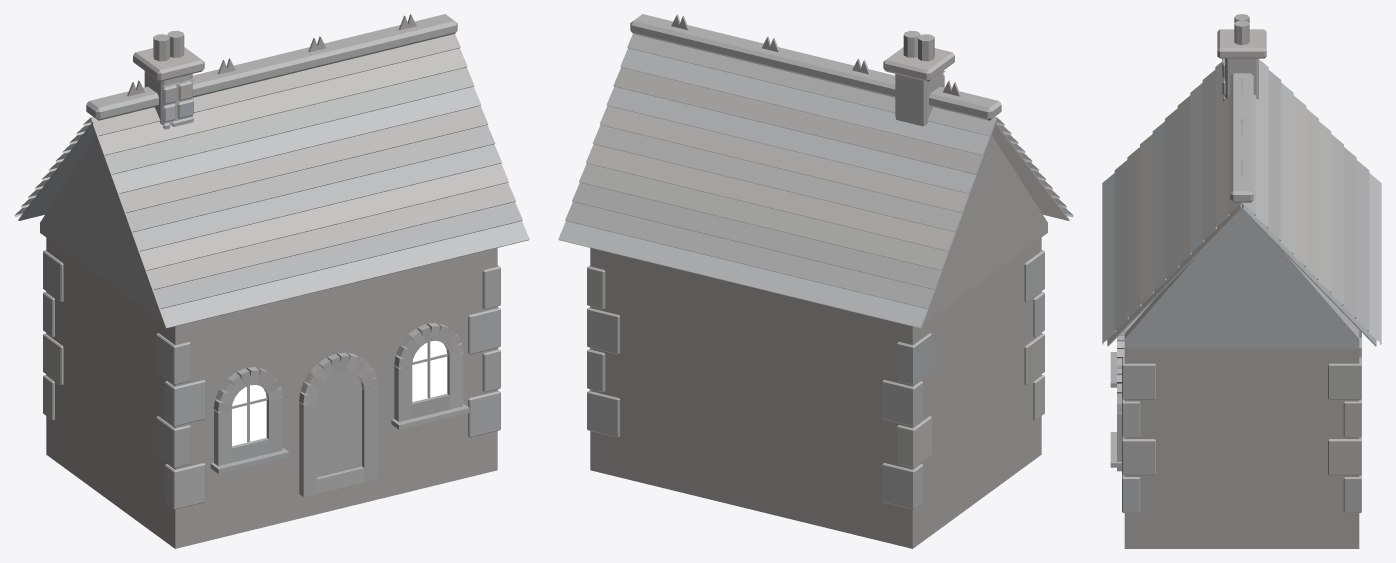
Rendered from cottage.glb.
3 renders of one model, left to right at view 1: azimuth 30°, elevation 25°; view 2: azimuth 150°, elevation 25°; view 3: azimuth 270°, elevation 25°, orthographic. The views are drawn at different scales.
Visible parts, largest first — view 1: SM_FK_cottage; view 2: SM_FK_cottage; view 3: SM_FK_cottage.
Part boxes in pixels (left/top/right/bottom): SM_FK_cottage: left=14, top=14, right=529, bottom=548; SM_FK_cottage: left=558, top=14, right=1073, bottom=548; SM_FK_cottage: left=1102, top=14, right=1381, bottom=548.
Bounding box in the file's own units: 14.6 × 17.4 × 10.72.
